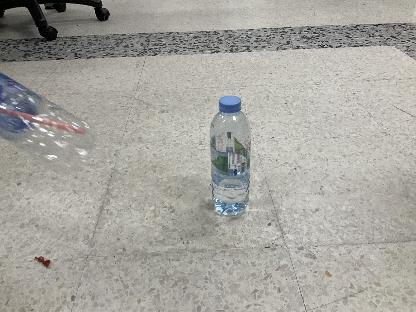Plastic Bottle: (0, 70, 94, 176), (210, 96, 252, 218)
